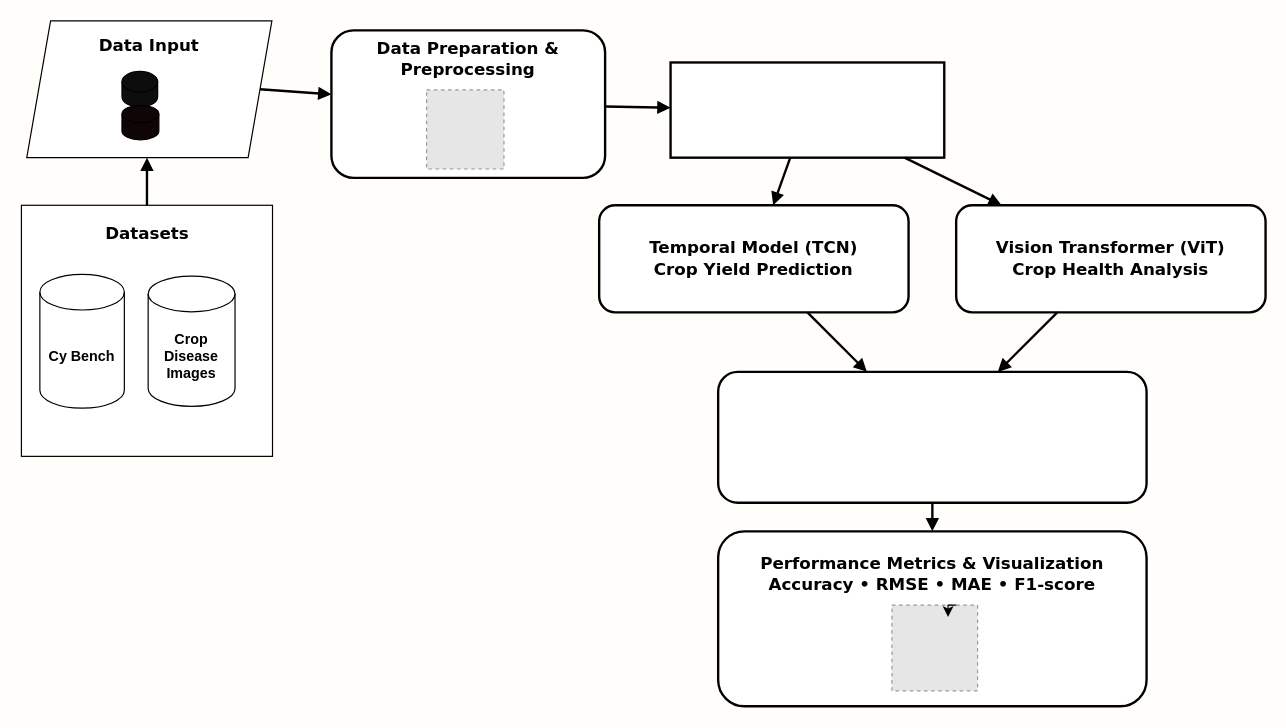
The diagram is 1286 pixels wide and 728 high, and some of its shapes have lost their labels. Grey dashed boxes stand in for pictures. The centre of each missing label's shape, as x and y in pixels:
Feature Engineering & Data Splitting: point 807,109
Model Evaluation & Fine-Tuning Hyperparameter Optimization Feature Selection: point 931,436
